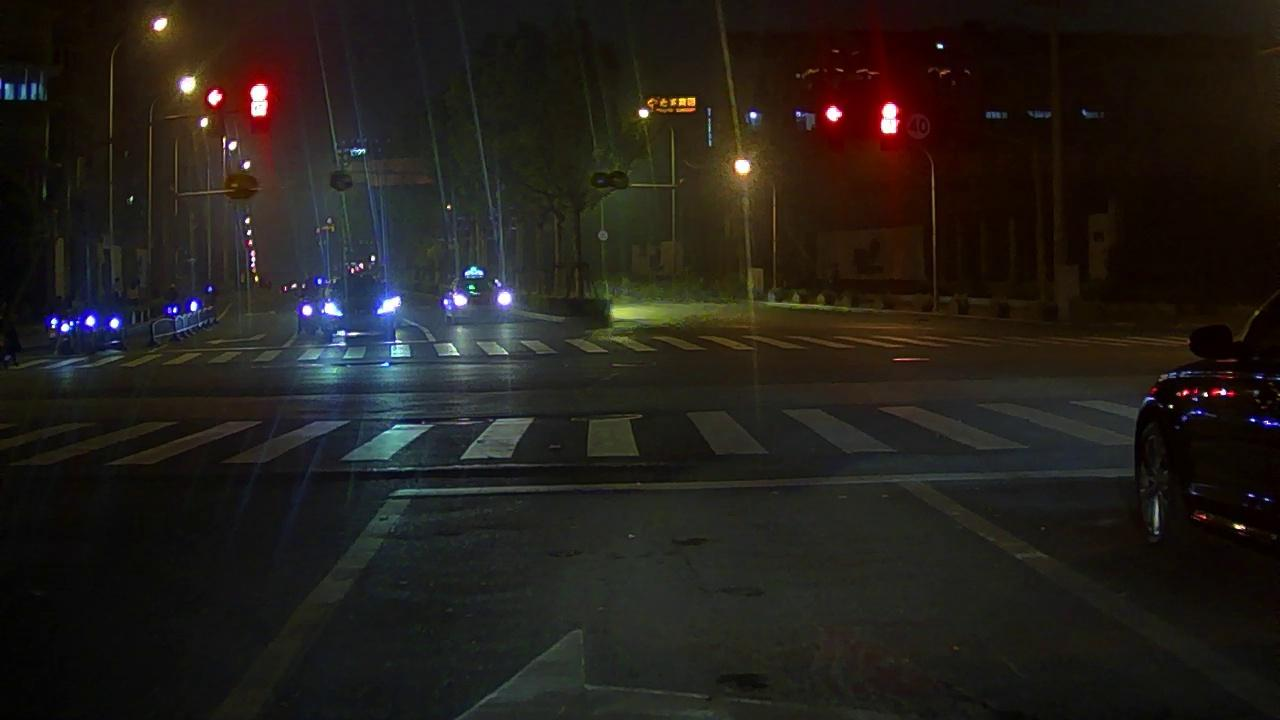traffic_light: (206, 89, 224, 136), (251, 82, 269, 129), (881, 102, 898, 134), (825, 106, 841, 121)
